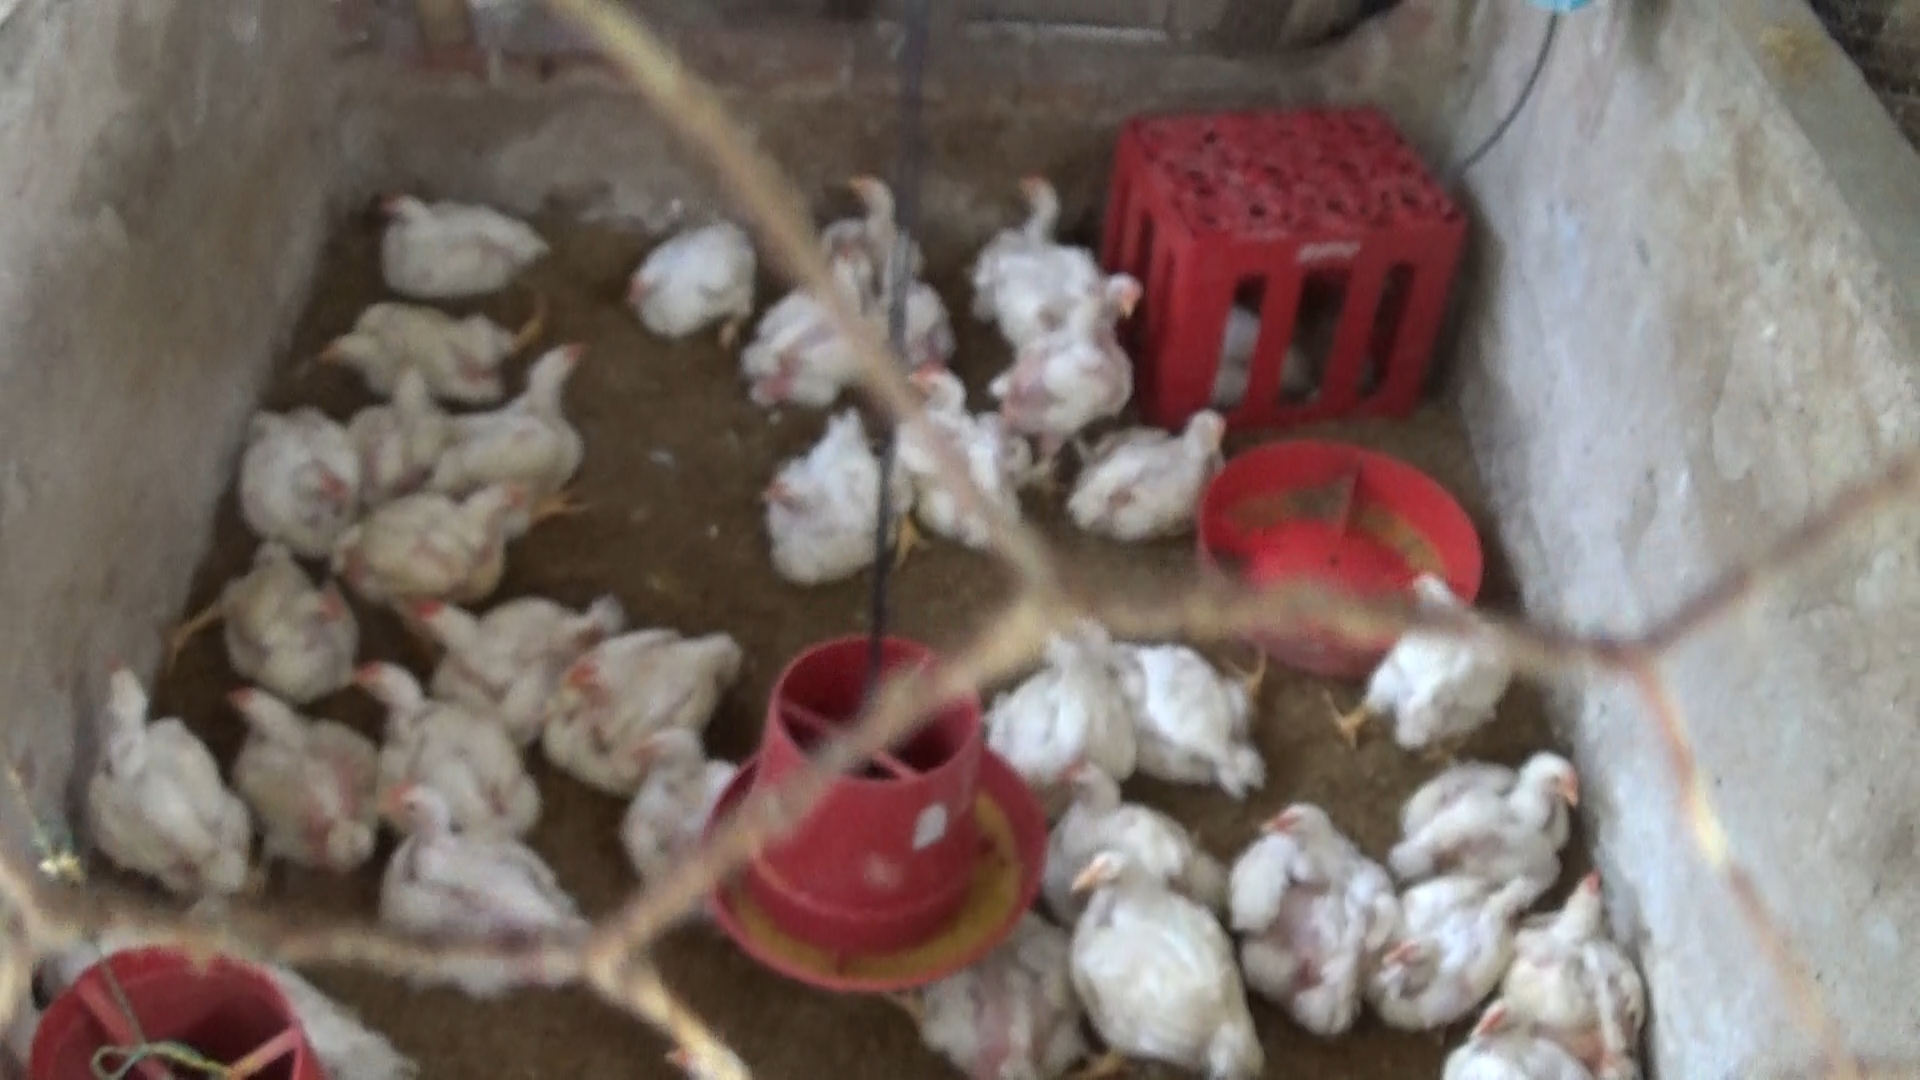Pollos: (357, 771, 597, 959), (1076, 603, 1294, 791), (1062, 843, 1232, 1080), (1228, 794, 1386, 1047), (91, 658, 251, 895), (222, 676, 394, 866), (347, 655, 535, 825), (545, 611, 720, 789), (401, 576, 612, 713), (994, 266, 1156, 440), (884, 349, 1015, 554), (306, 286, 546, 396), (1361, 889, 1545, 1029), (1513, 864, 1648, 1052), (1029, 752, 1211, 891), (206, 526, 345, 702), (1382, 574, 1516, 756), (356, 178, 553, 302), (345, 473, 542, 597), (1073, 396, 1241, 541), (1396, 732, 1600, 851), (612, 721, 754, 880), (454, 332, 603, 483), (761, 400, 880, 583), (990, 624, 1135, 771), (963, 160, 1102, 302), (625, 214, 757, 352), (240, 393, 356, 531), (349, 353, 454, 487), (829, 171, 931, 277)
